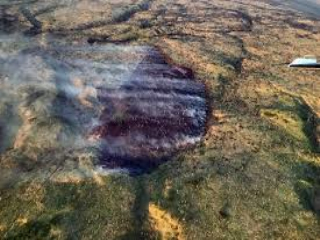smoke: (86, 36, 219, 182)
